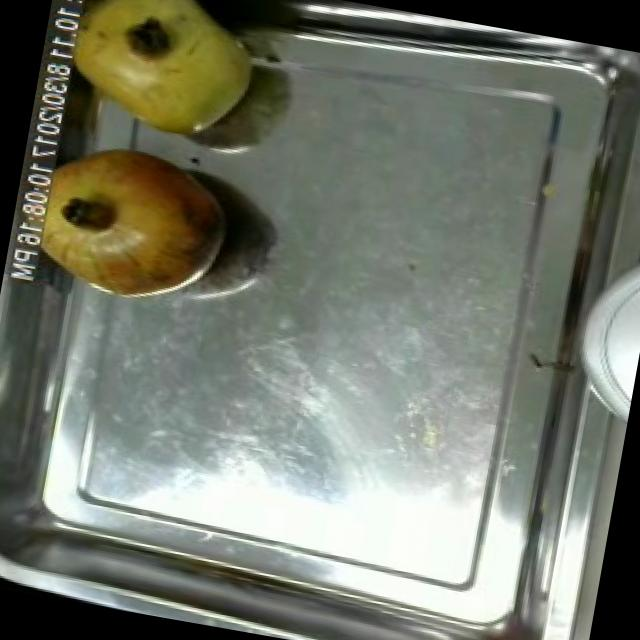fruit: (12, 122, 248, 318), (37, 0, 279, 157)
